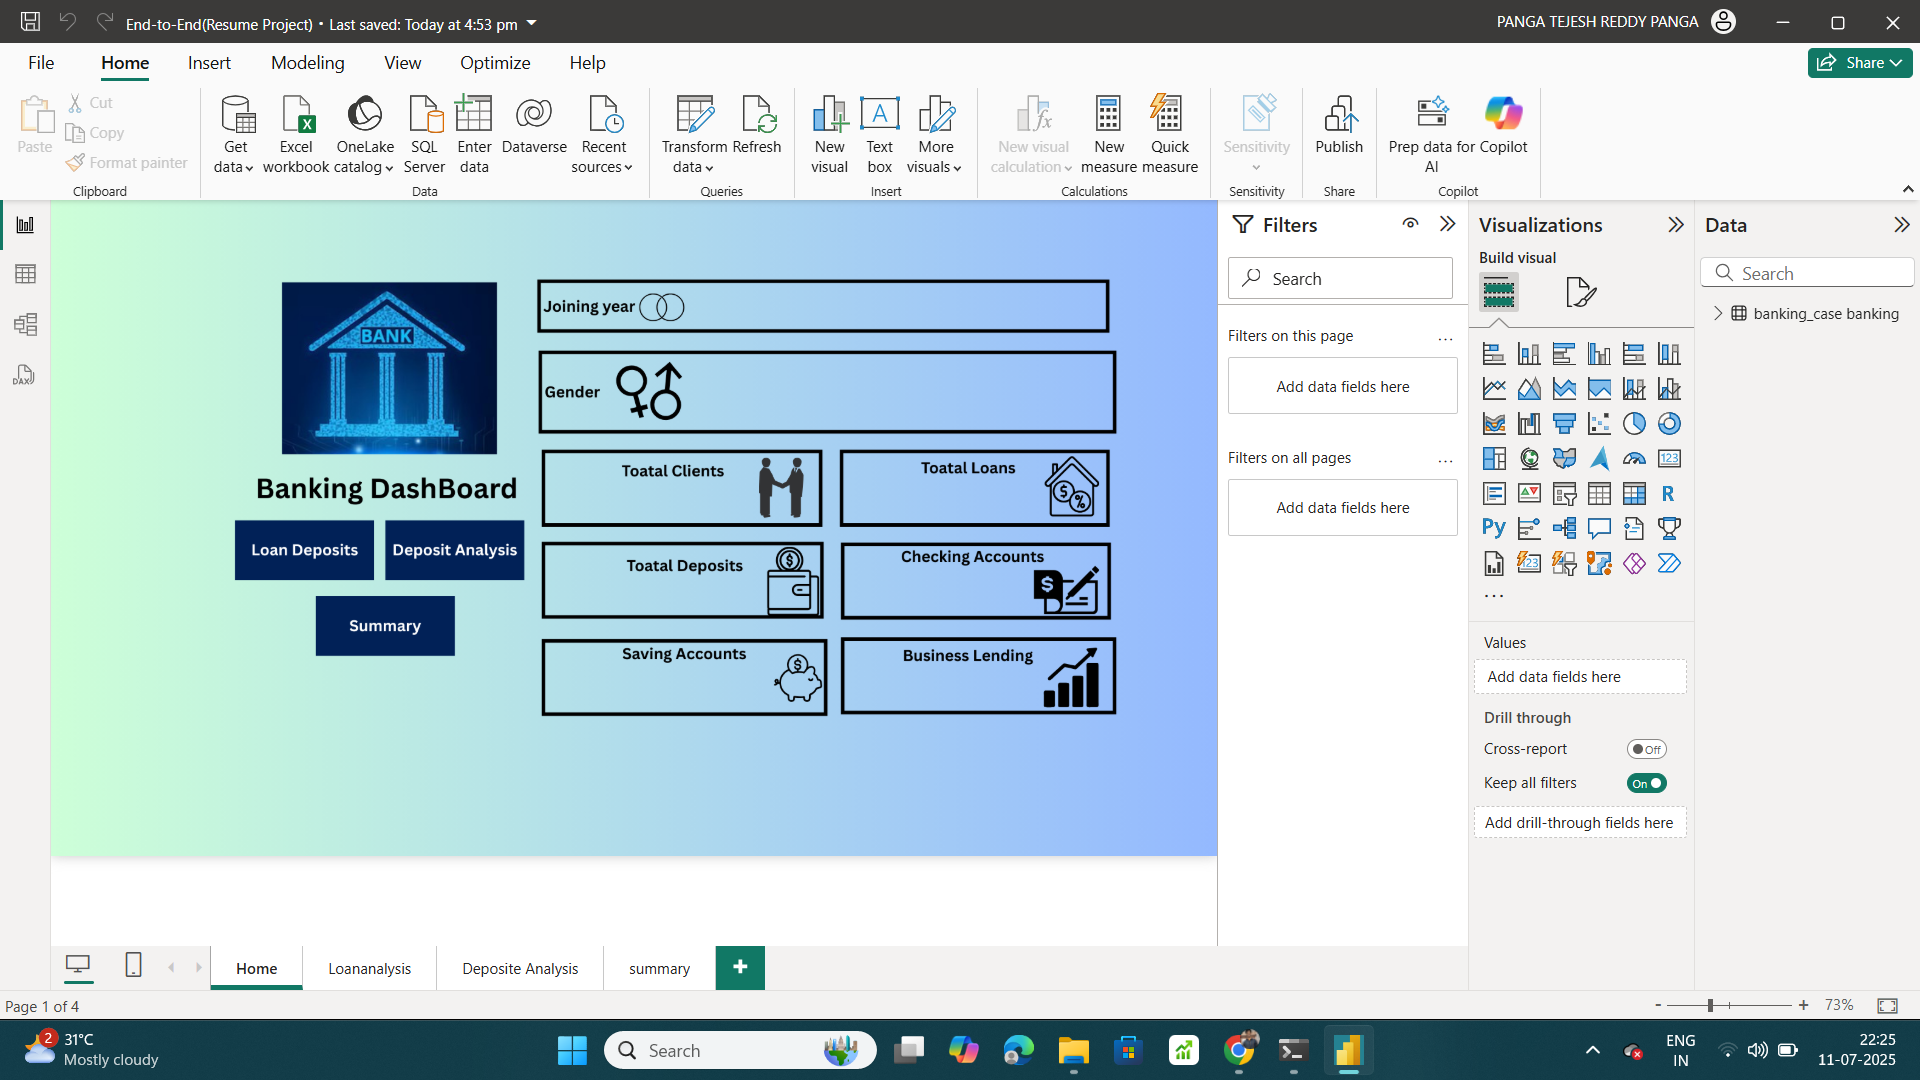

The dashboard page shown, as its layout file describes it:
{"tool":"powerbi","page":{"name":"Home","canvas":[1280,720],"ordinal":0},"visuals":[{"type":"card","fields":{"Values":["CountNonNull(banking_case banking.Name)"]},"box":[620,310,170,38.3],"z":0},{"type":"card","fields":{"Values":["Sum(banking_case banking.Bank Loans)"]},"box":[911.7,310,203.3,38.3],"z":1000},{"type":"card","fields":{"Values":["Sum(banking_case banking.Bank Deposits)"]},"box":[620,398.3,170,60],"z":2000},{"type":"card","fields":{"Values":["Sum(banking_case banking.Checking Accounts)"]},"box":[880,393.3,265,68.3],"z":3000},{"type":"card","fields":{"Values":["Sum(banking_case banking.Saving Accounts)"]},"box":[573.3,495,261.7,60],"z":4000},{"type":"card","fields":{"Values":["Sum(banking_case banking.Business Lending)"]},"box":[921.7,495,181.7,56.7],"z":5000},{"type":"slicer","fields":{"Values":["banking_case banking.GenderId"]},"box":[725,178.3,373.3,73.3],"z":6000},{"type":"slicer","fields":{"Values":["banking_case banking.year of joining"]},"box":[656.7,96.7,500,40],"z":7000},{"type":"actionButton","box":[210,360,135,53.3],"z":8000},{"type":"actionButton","box":[370,360,145,46.7],"z":9000},{"type":"actionButton","box":[296.7,445,146.7,50],"z":10000},{"type":"actionButton","box":[370,358.3,145,48.3],"z":10001}]}

Visuals, with their boxes on the page's 1280x720 design canvas (x1, y1, x2, y2). These are canvas units, not pixel positions in the 1920x1080 screenshot, which may show the page scaled, cropped or inside an application window:
card - CountNonNull(banking_case banking.Name): 620 310 790 348
card - Sum(banking_case banking.Bank Loans): 912 310 1115 348
card - Sum(banking_case banking.Bank Deposits): 620 398 790 458
card - Sum(banking_case banking.Checking Accounts): 880 393 1145 462
card - Sum(banking_case banking.Saving Accounts): 573 495 835 555
card - Sum(banking_case banking.Business Lending): 922 495 1103 552
slicer - banking_case banking.GenderId: 725 178 1098 252
slicer - banking_case banking.year of joining: 657 97 1157 137
actionButton: 210 360 345 413
actionButton: 370 360 515 407
actionButton: 297 445 443 495
actionButton: 370 358 515 407
